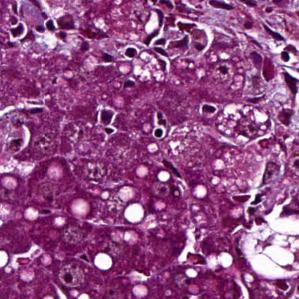ballooning: (238, 209, 299, 282)
